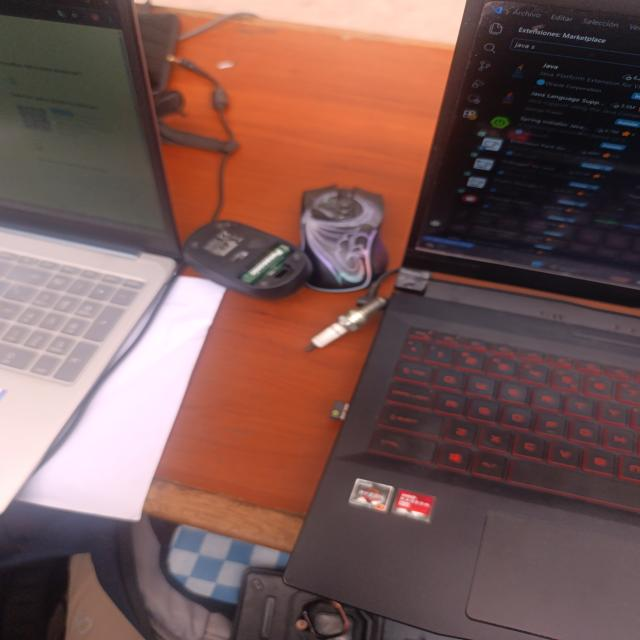Mause: (183, 220, 311, 299), (301, 186, 387, 291)
bujia: (305, 297, 387, 351)
